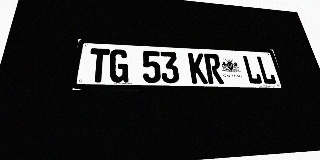3: (160, 51, 179, 83)
5: (142, 50, 161, 83)
G: (109, 49, 128, 83)
K: (188, 53, 208, 84)
L: (242, 55, 263, 84), (256, 56, 277, 84)
R: (204, 53, 224, 84)
T: (88, 48, 110, 82)
